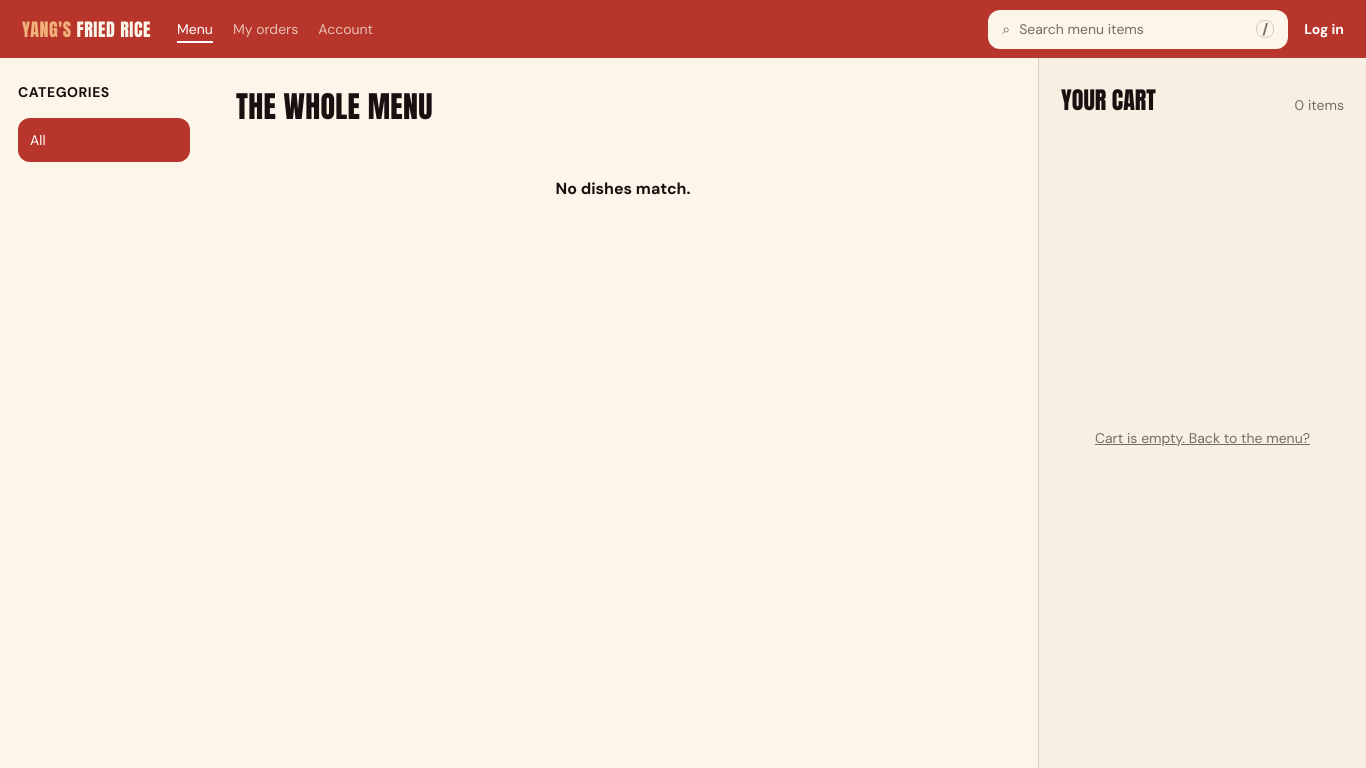
it: MenuScreen search races › tells the customer when a search fails instead of rejecting silently
Type "chow" into the search field at (1133, 29), box [1019, 18, 1247, 40]
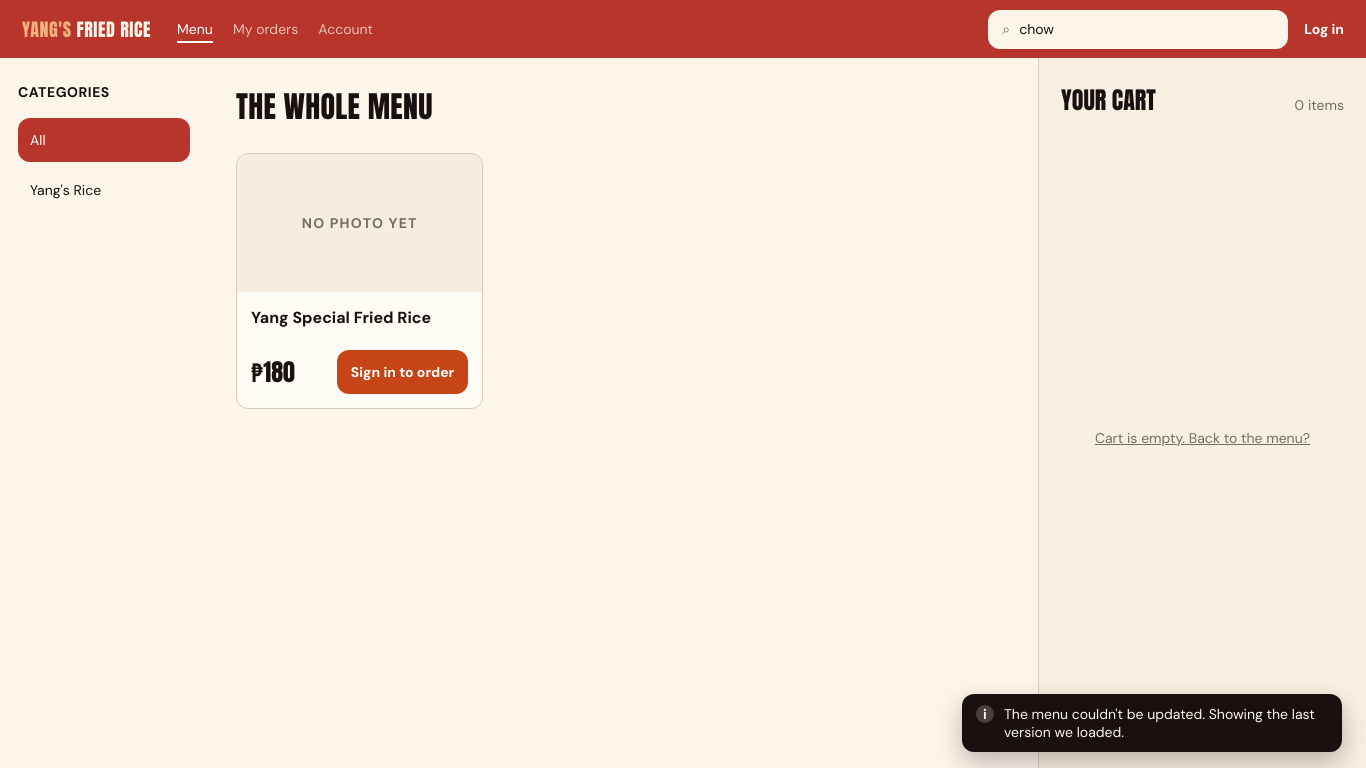
Now the text "couldn't be updated" is shown, box [1004, 705, 1315, 741]
